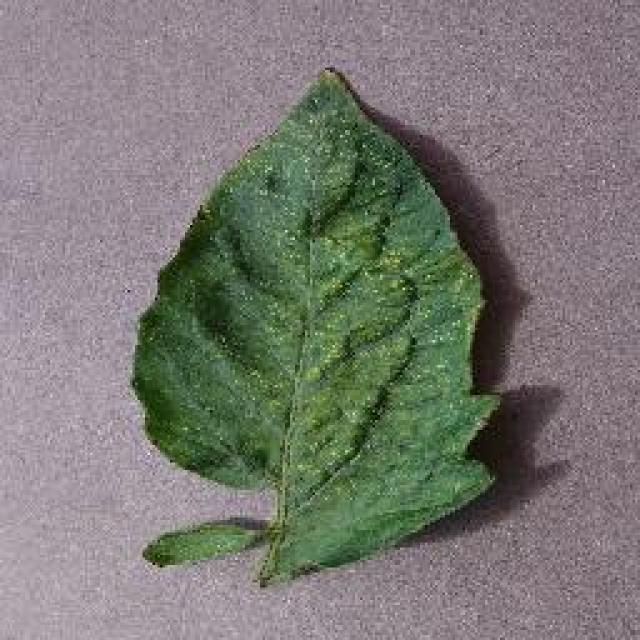Tomato mosaic virus leaf: (132, 61, 502, 586)
